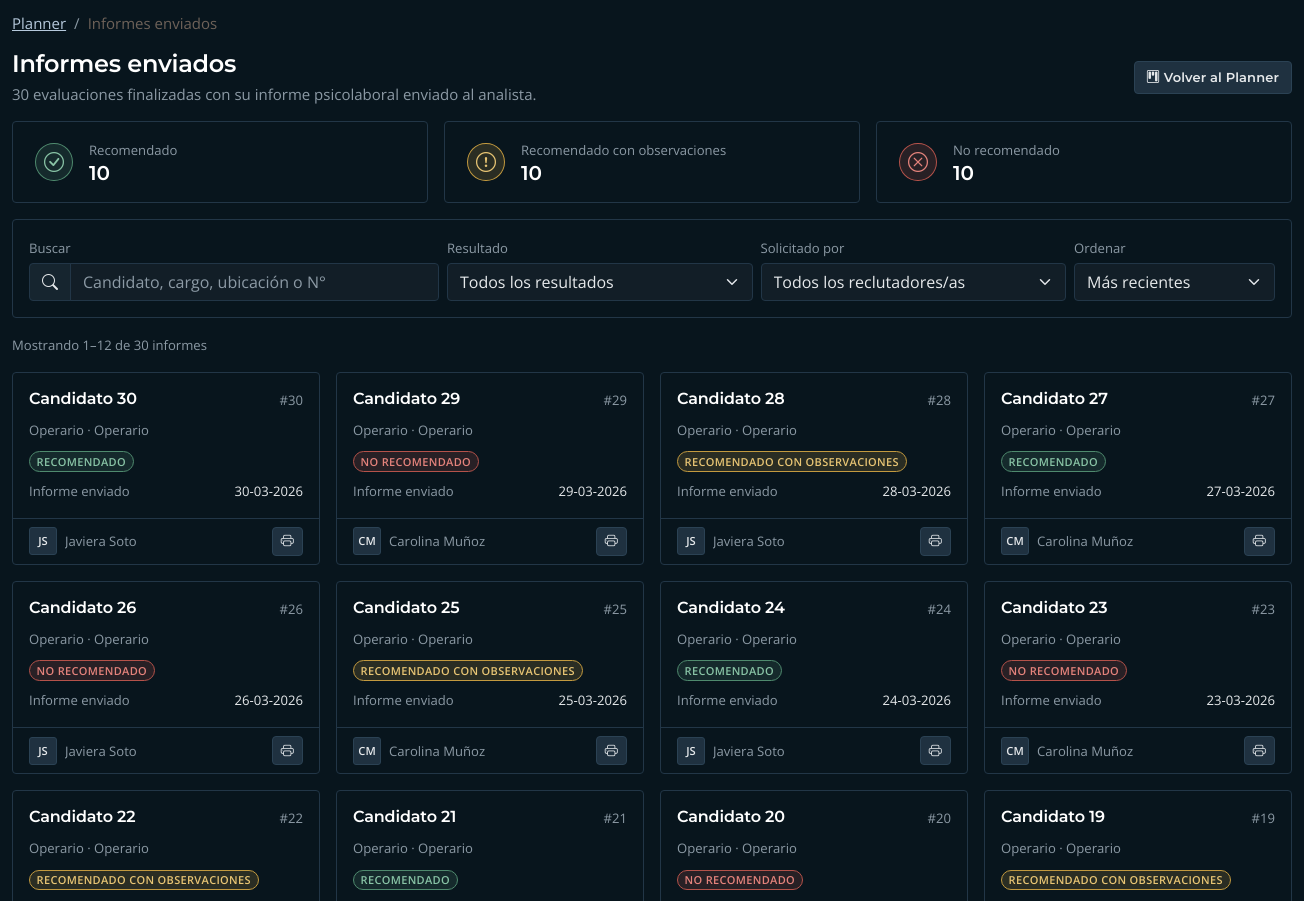
Test: InformesEnviados › busca por texto y por reclutador/a, y limpia los filtros
The image size is (1304, 901).
In the search field labelled "Buscar": (254, 282) 70,263 -> 439,301, type "electrico"
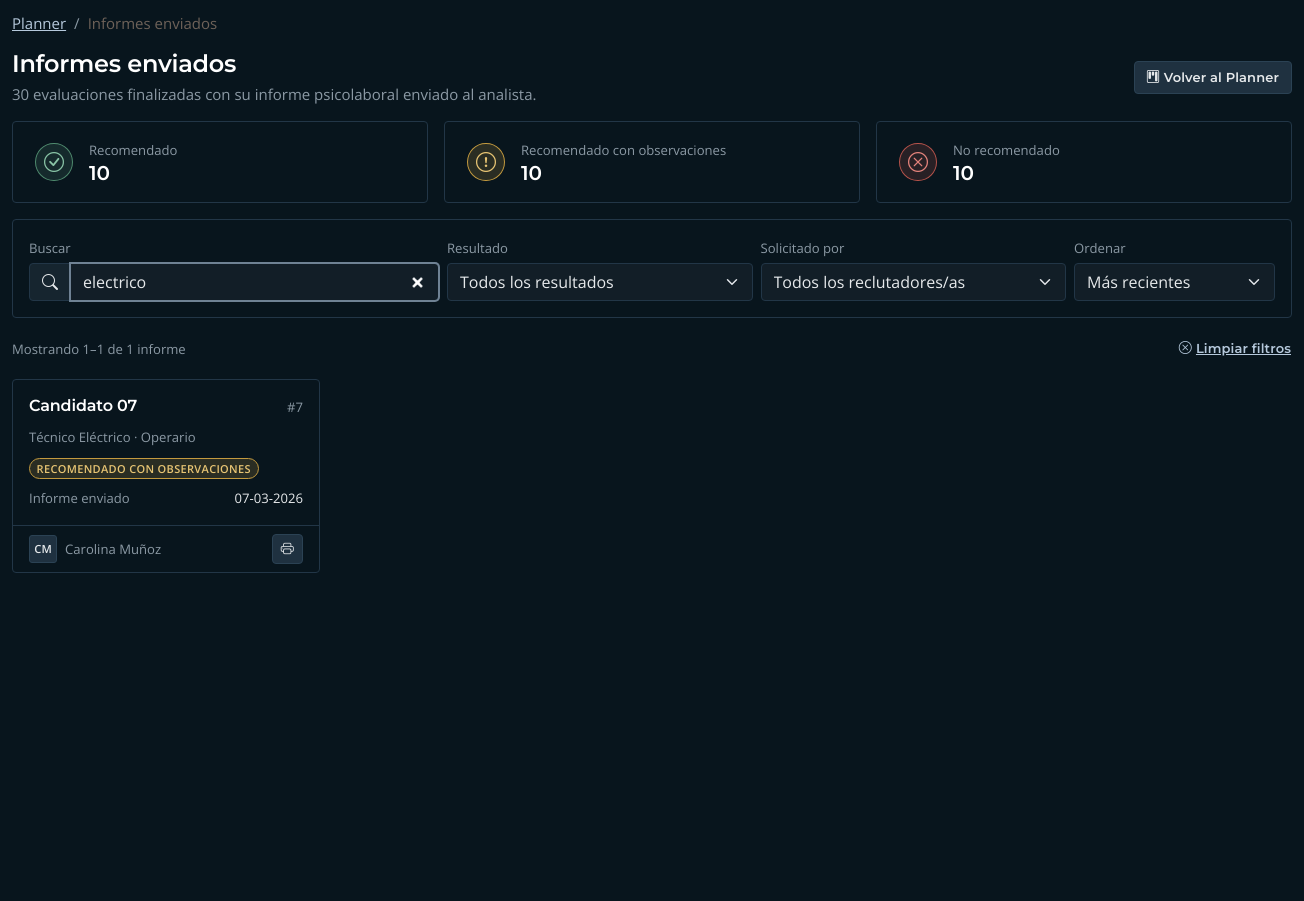
Now the link "Candidato 07" is shown, box 29,396 -> 137,415
Click the button "Limpiar filtros": (1235, 349) 1178,334 -> 1292,363
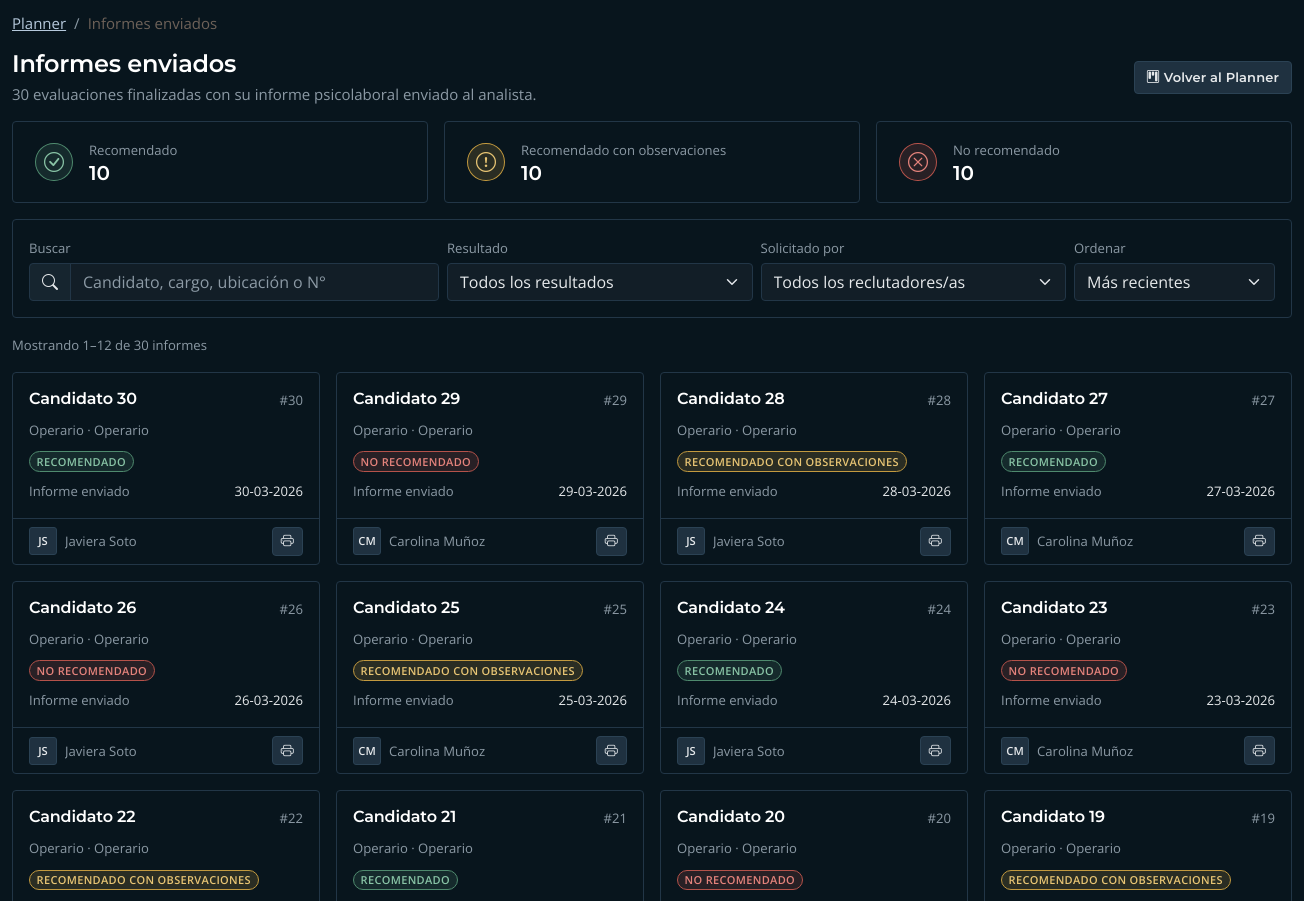
Select "Carolina Muñoz" in the dropdown labelled "Solicitado por": (913, 282) 760,263 -> 1066,301
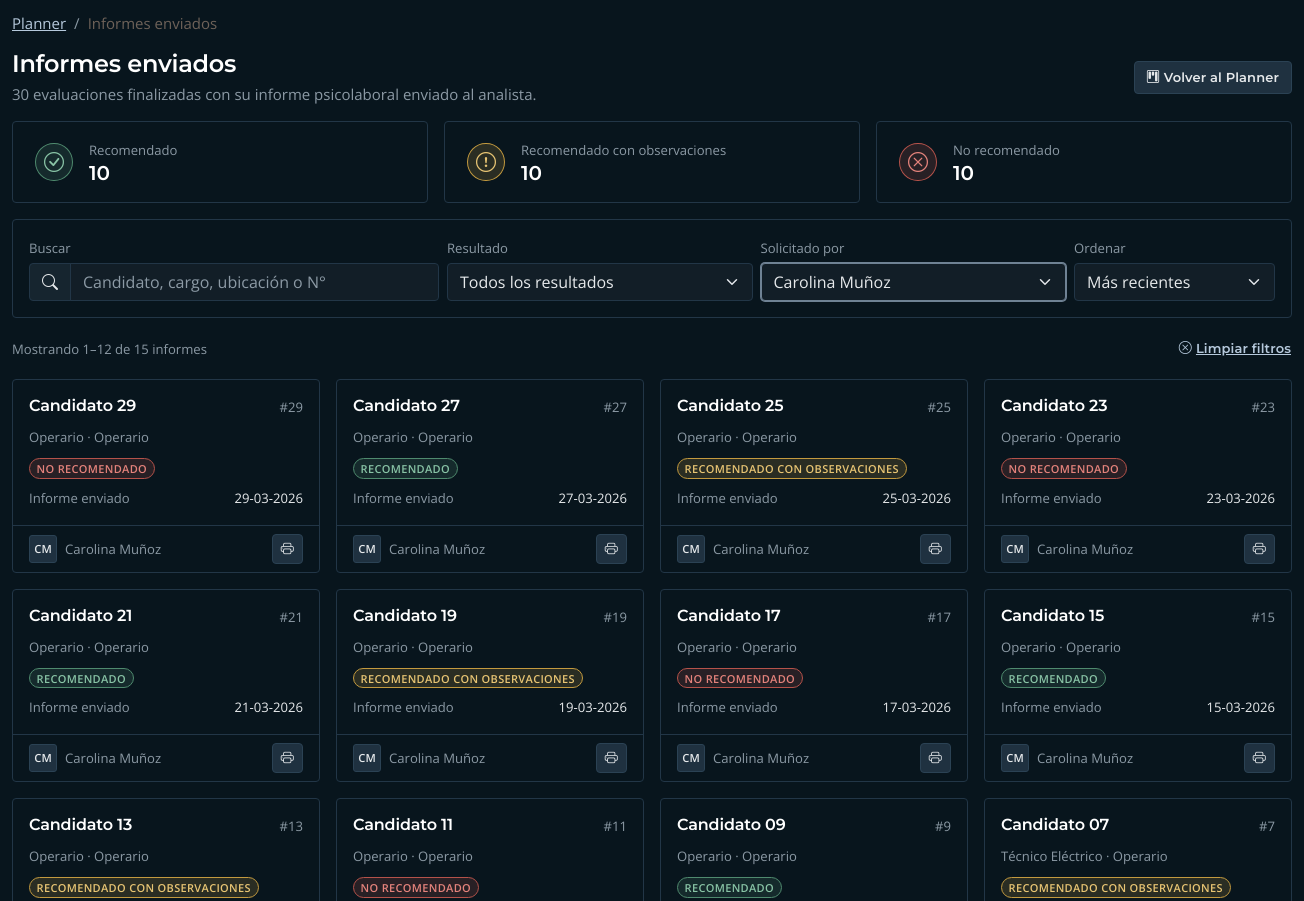
Now the text "Mostrando 1–12 de 15 informes" is shown, box 12,338 -> 207,360
